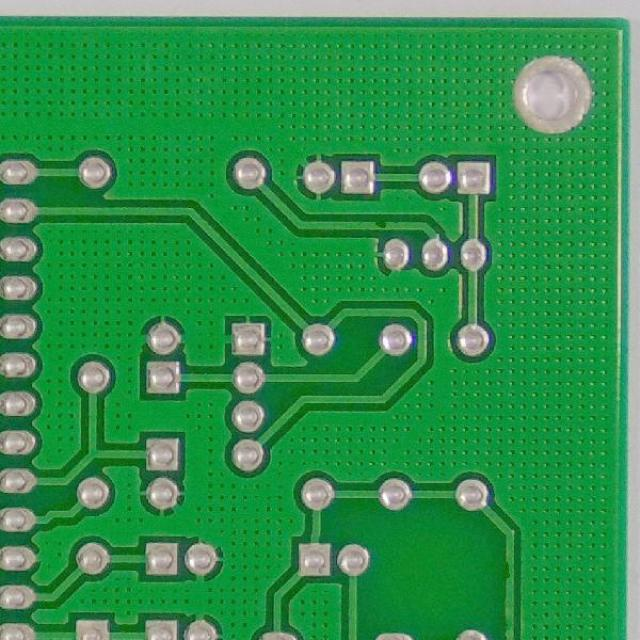MouseBite: (501, 554, 516, 584), (369, 217, 392, 230)
